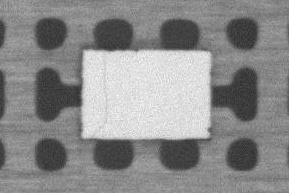DIE_CRACK: (93, 53, 109, 134)
